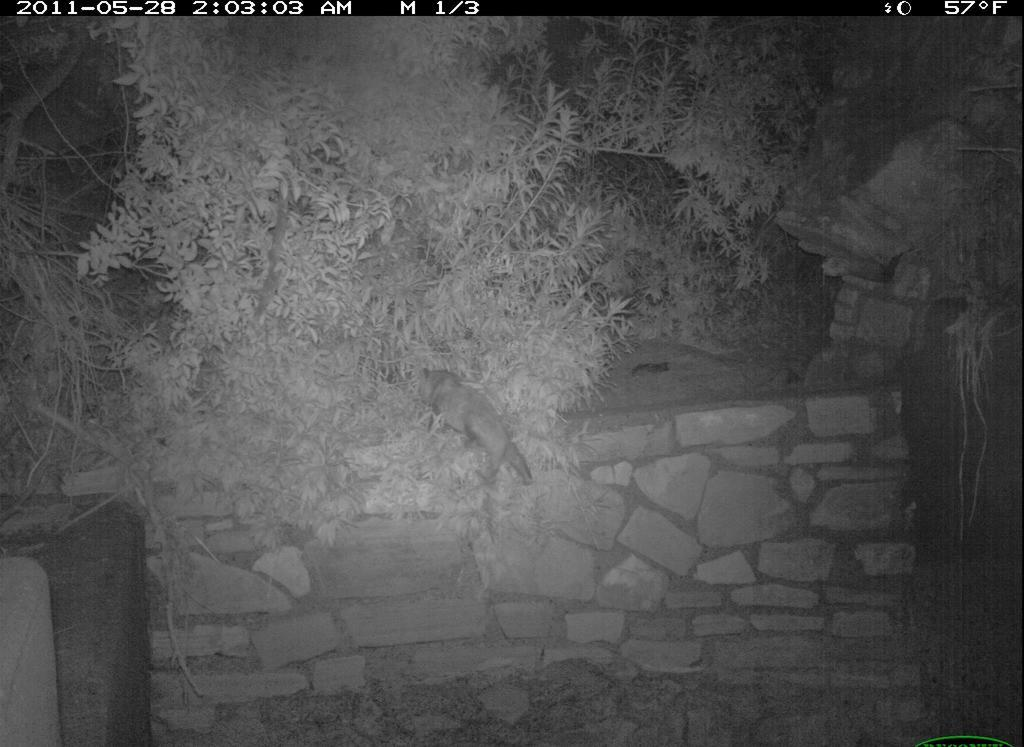opossum: (395, 361, 561, 500)
